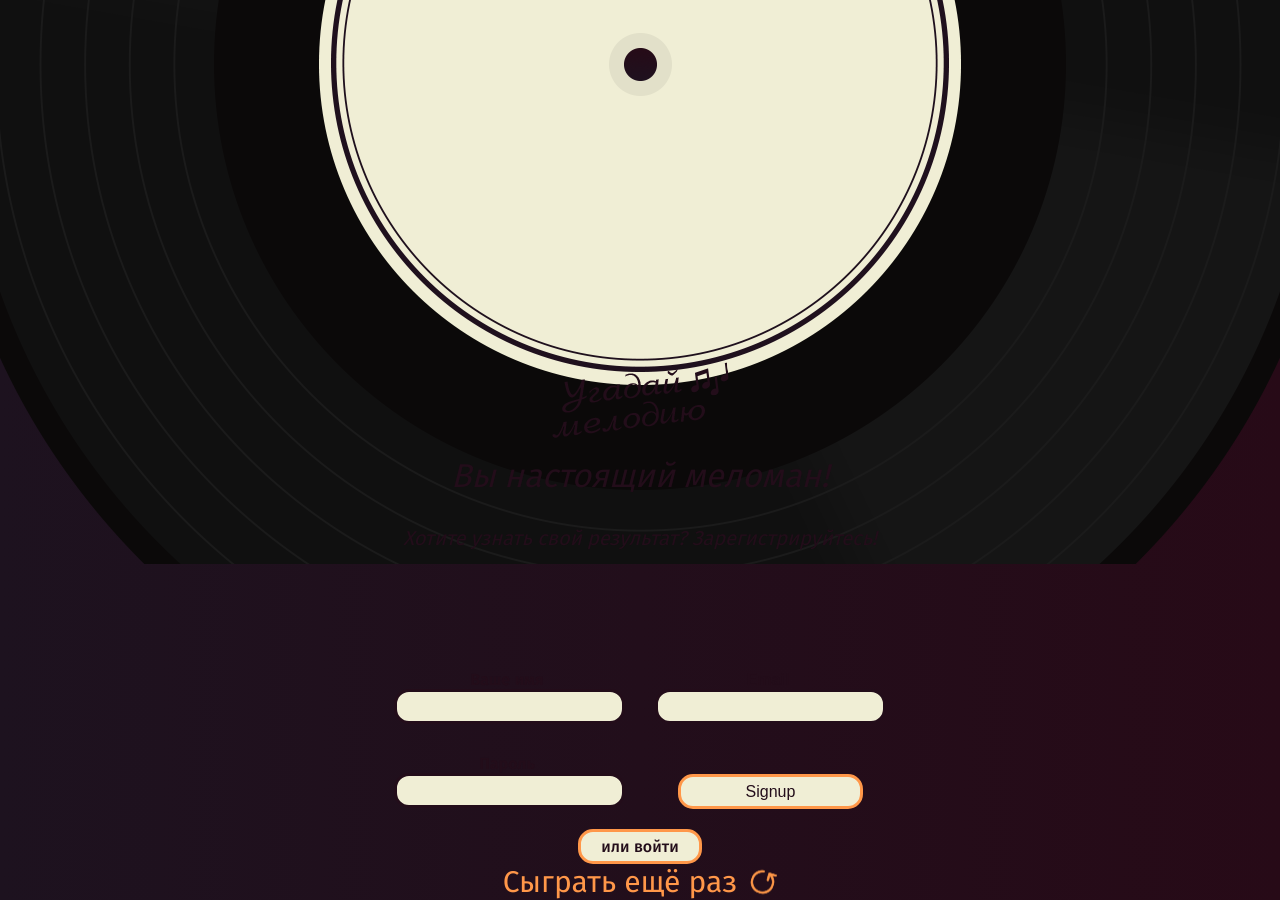
Test: Component SignupScreen › should render error on empty fields
(page scrolled)
Click the button "Signup" at {"x": 770, "y": 791}, box x1=678 y1=774 x2=863 y2=808
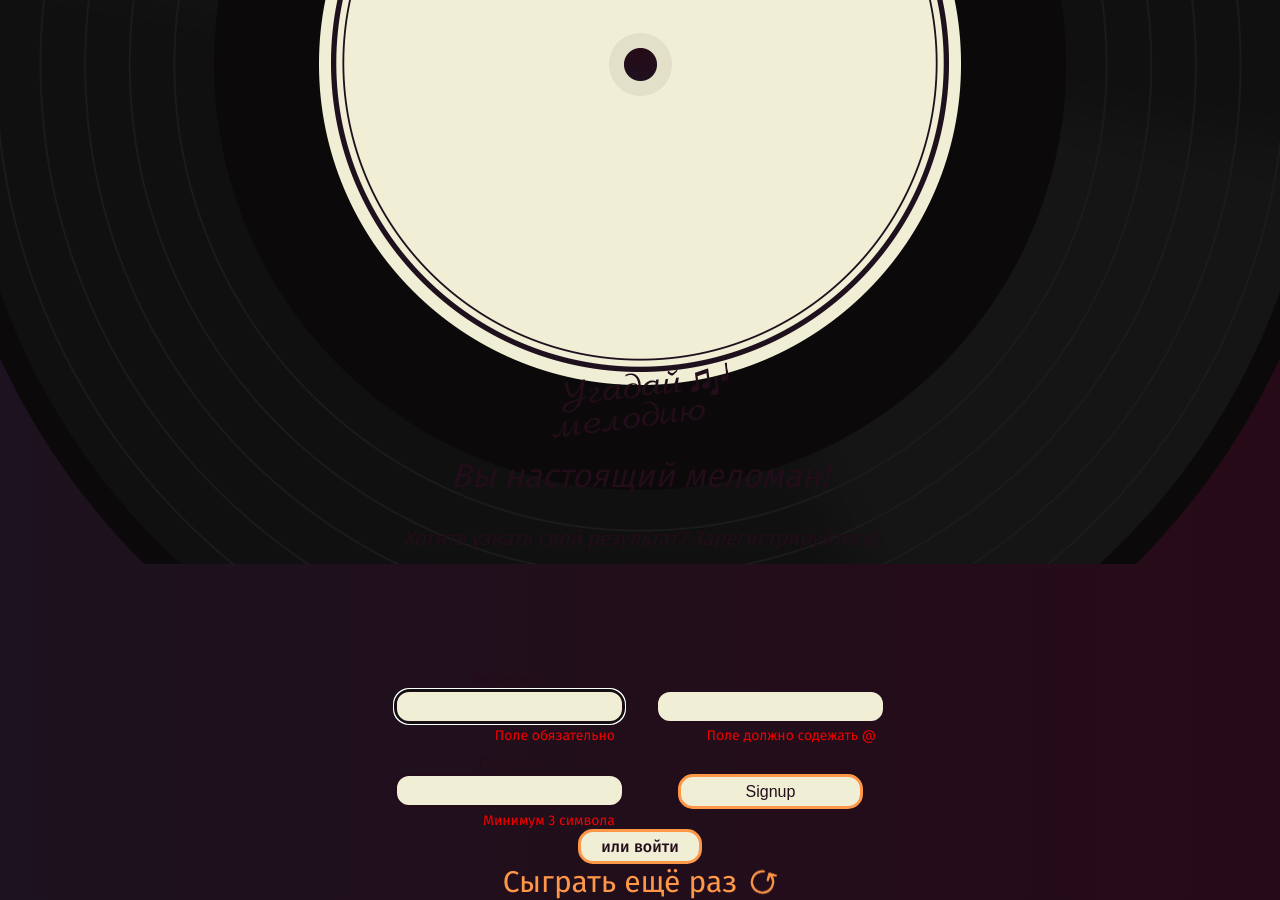
Check: the text "Поле обязательно" is shown, box x1=495 y1=726 x2=615 y2=744
